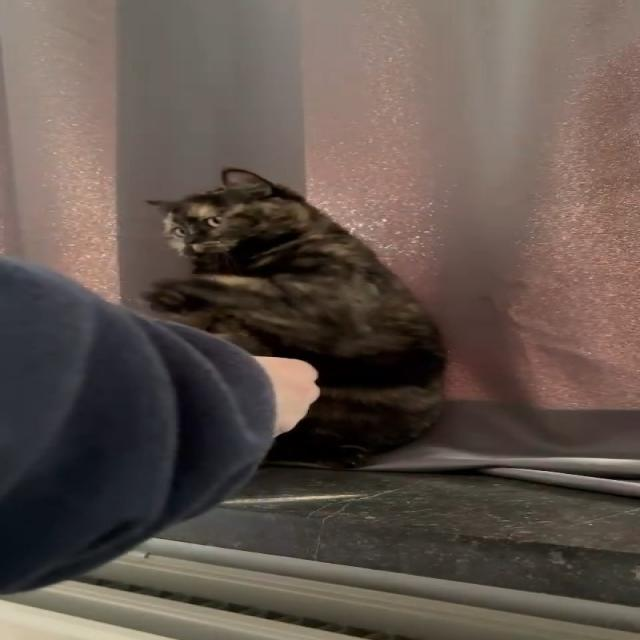authorized: (140, 167, 449, 469)
